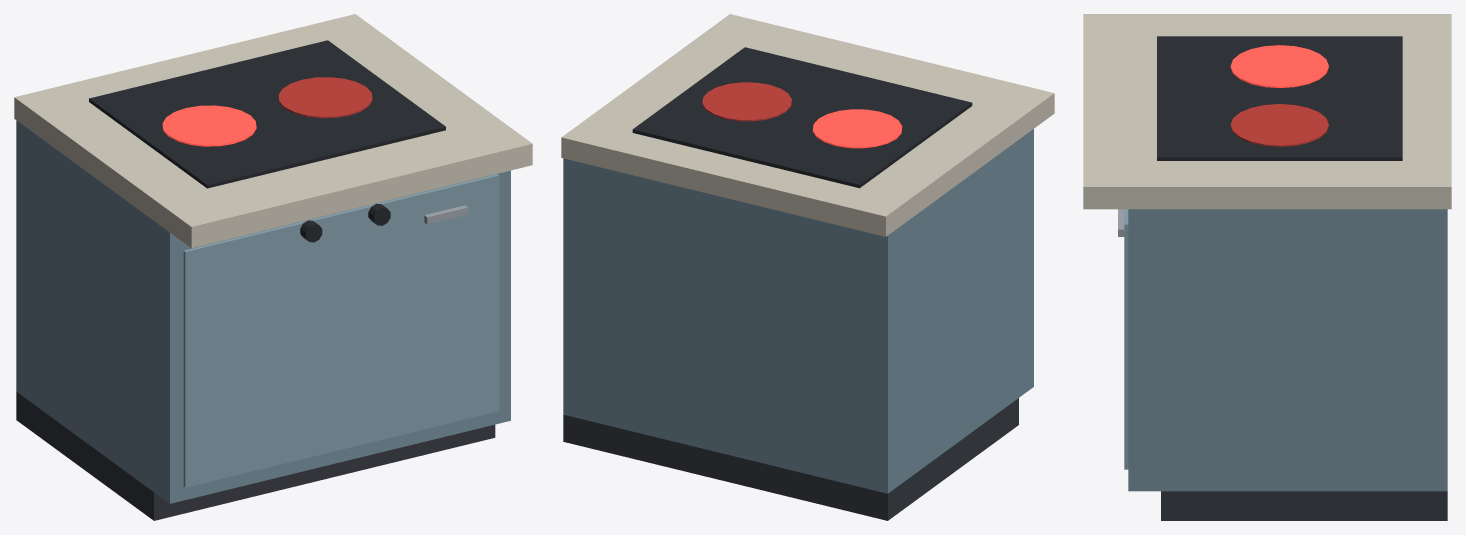
The model's file is counter_hob.glb.
3 views of the same model, side by side, from view 1: azimuth 30°, elevation 25°; view 2: azimuth 150°, elevation 25°; view 3: azimuth 270°, elevation 25° (orthographic). The views are drawn at different scales.
Parts seen in each view (by area): view 1: counter_hob_mesh; view 2: counter_hob_mesh; view 3: counter_hob_mesh.
Part boxes in pixels (left/top/right/bottom): counter_hob_mesh: left=14, top=14, right=532, bottom=520; counter_hob_mesh: left=561, top=14, right=1054, bottom=520; counter_hob_mesh: left=1083, top=14, right=1451, bottom=520.
Size of the model in its own units: 1 by 0.914 by 0.9.
